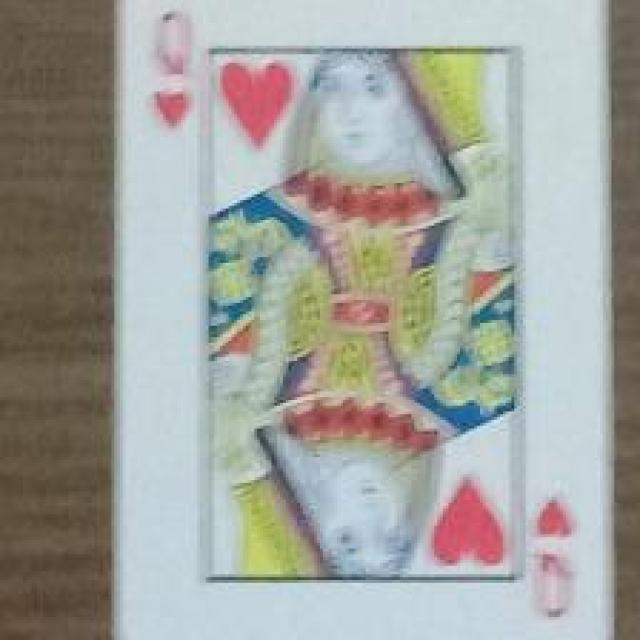Queen of hearts: (115, 0, 612, 640)
